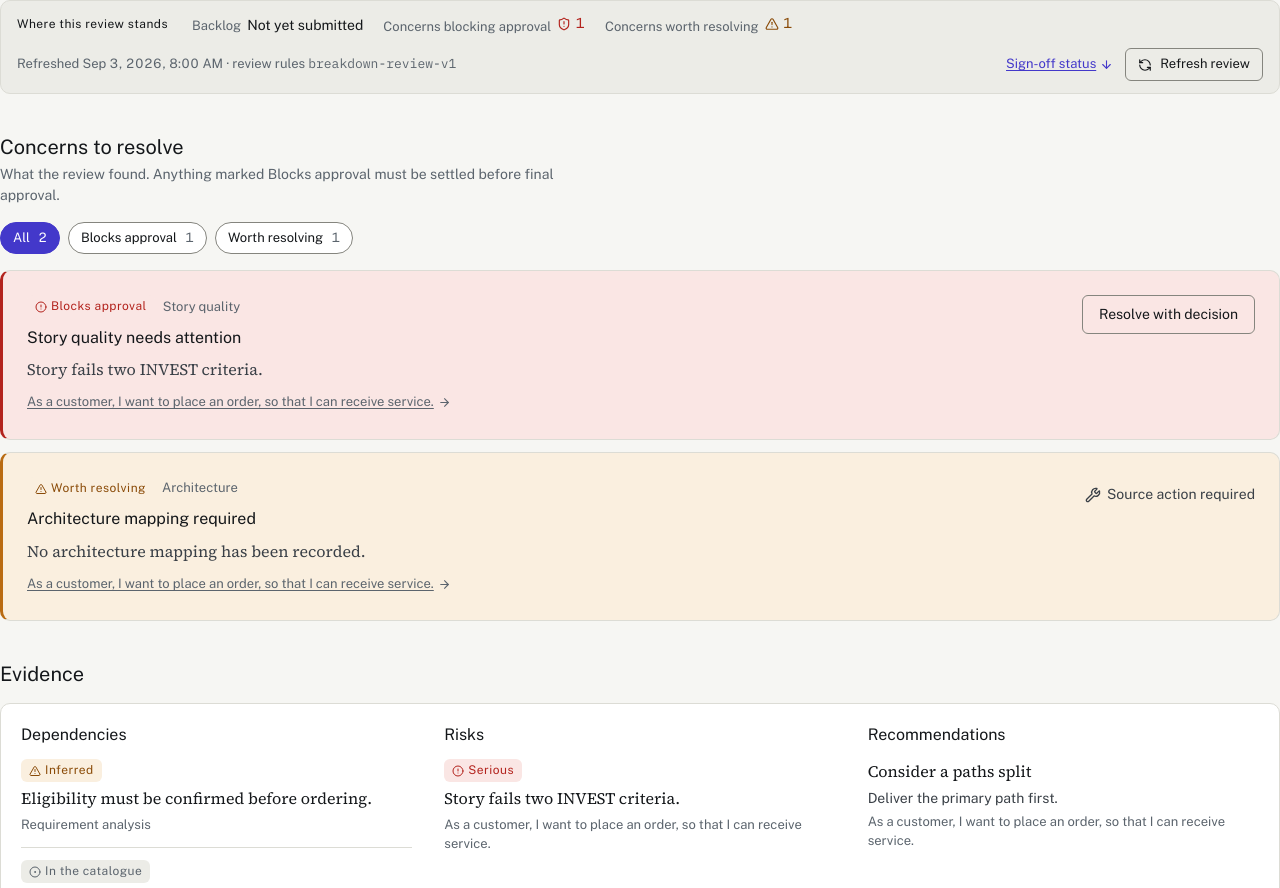
Test case: BreakdownReviewPanel › filters flags without changing the summary counts
Expected: the heading "Story quality needs attention" is shown, [27, 328, 241, 347]
Click the button "Worth resolving 1" at (284, 238), box [215, 222, 353, 254]
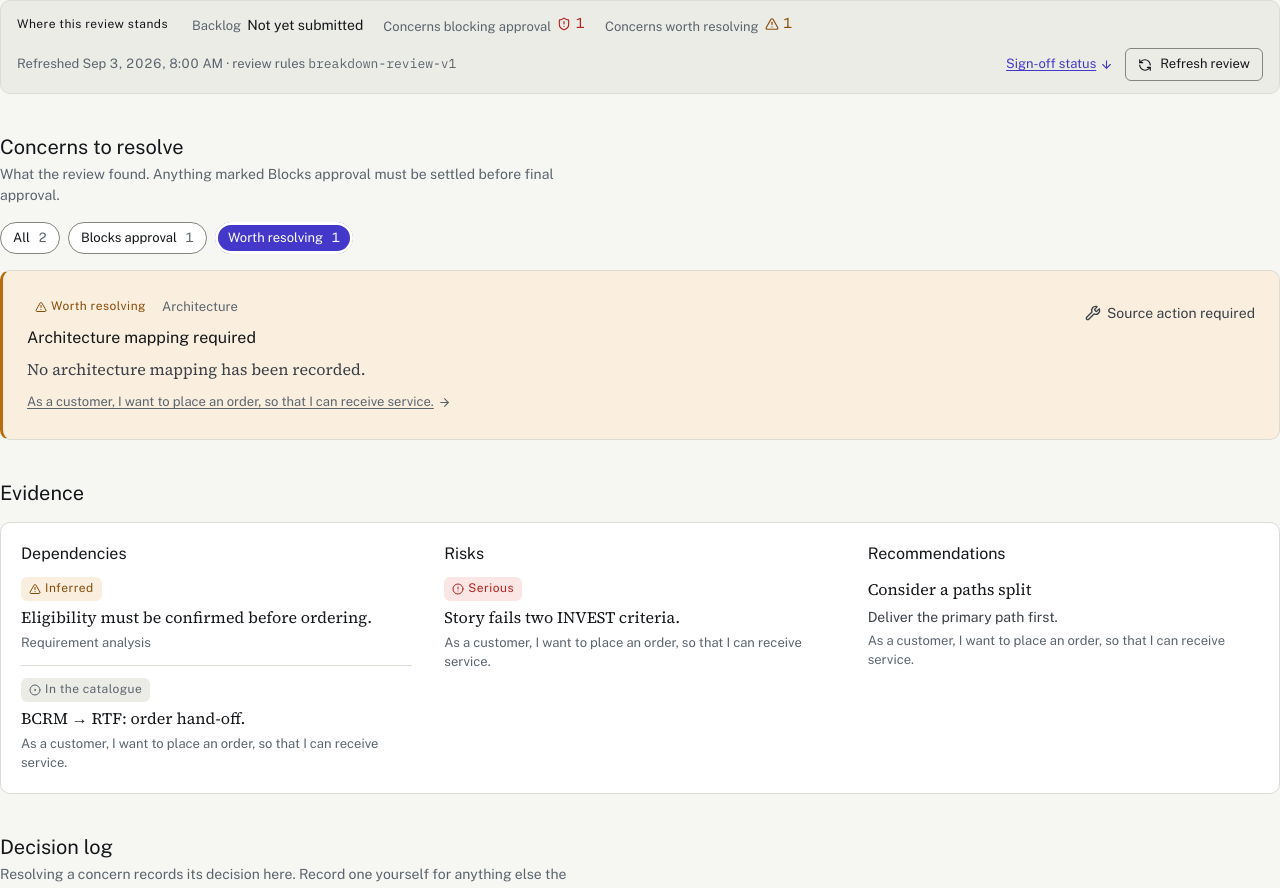
Expected: the heading "Architecture mapping required" is shown, [27, 328, 256, 347]
Result: the heading "Story quality needs attention" is gone
